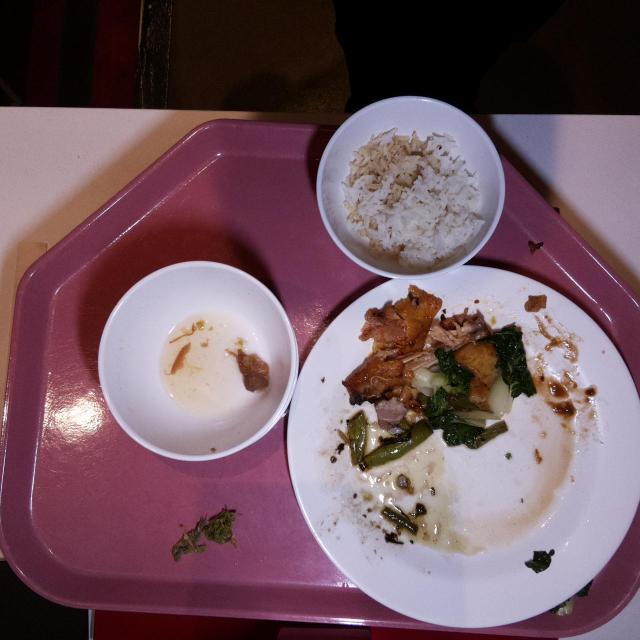Bone: (406, 306, 494, 368)
Meat: (364, 285, 441, 357)
Rice: (352, 129, 470, 253)
Vegetable: (345, 409, 427, 471), (428, 404, 506, 450), (494, 323, 534, 401), (414, 361, 472, 405)
